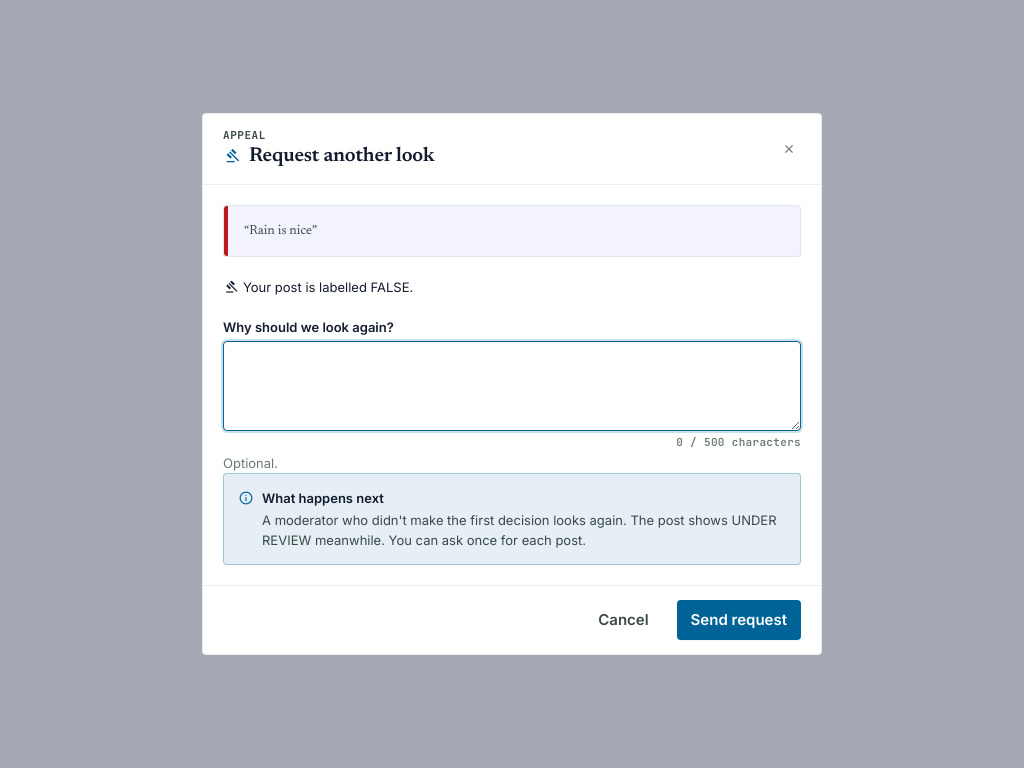
Scenario: AppealModal › when the server says no › puts a server field error on the box and focuses it once the form unlocks
Type "words kept" into the text box labelled "Why should we look again?" at (512, 386), box x1=223 y1=341 x2=801 y2=431
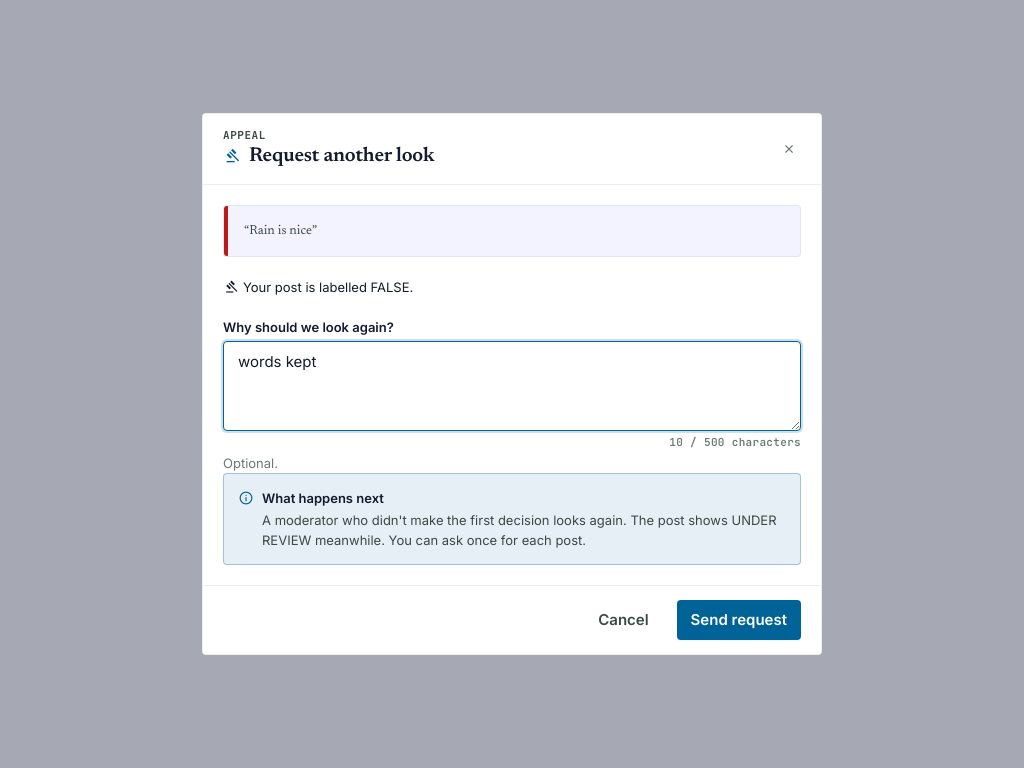
Click the button "Send request" at (739, 620), box x1=677 y1=600 x2=801 y2=640
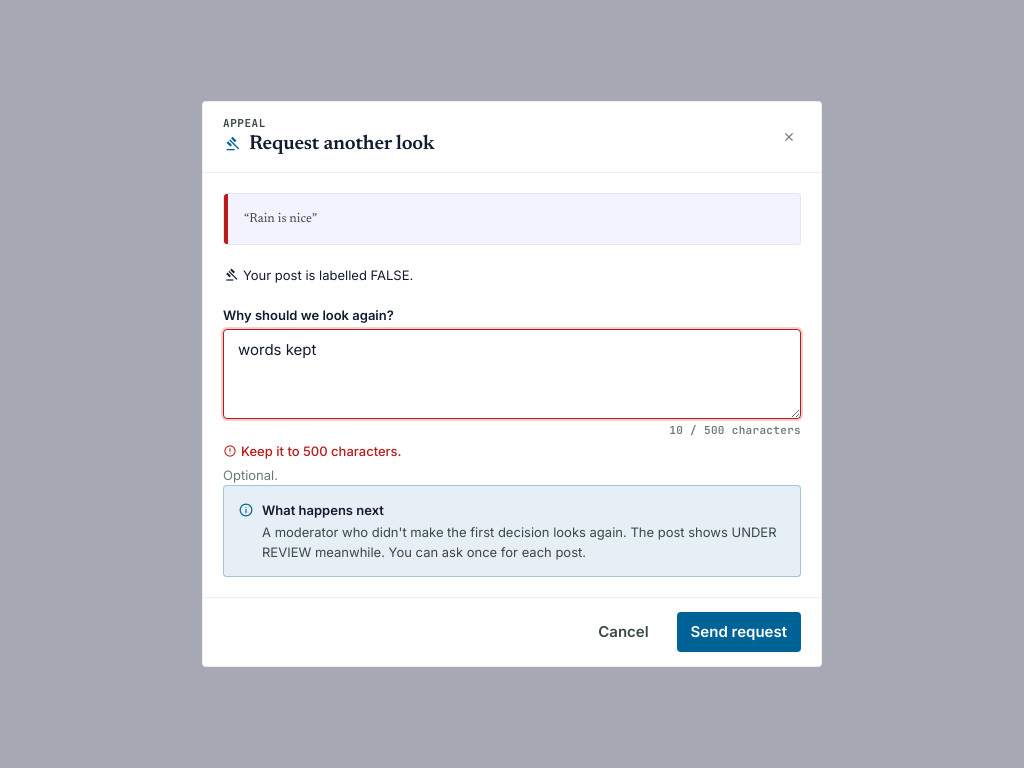
Expected: the text "Keep it to 500 characters." is shown, x1=223 y1=443 x2=402 y2=459
